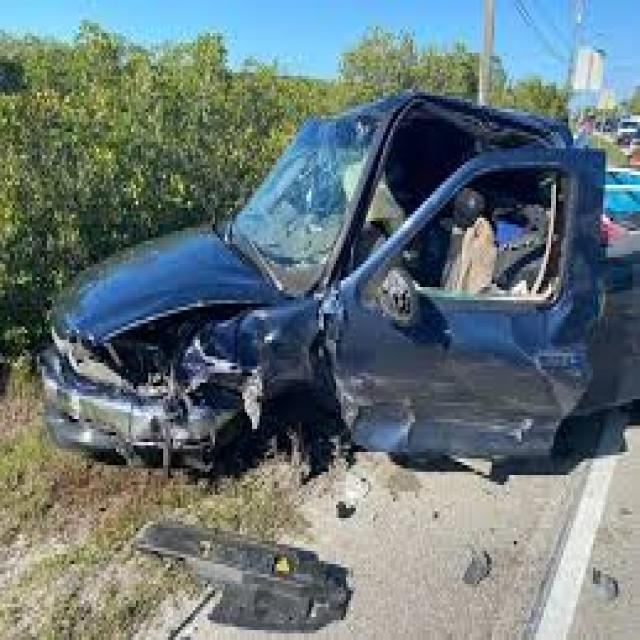accident: (44, 82, 590, 488)
